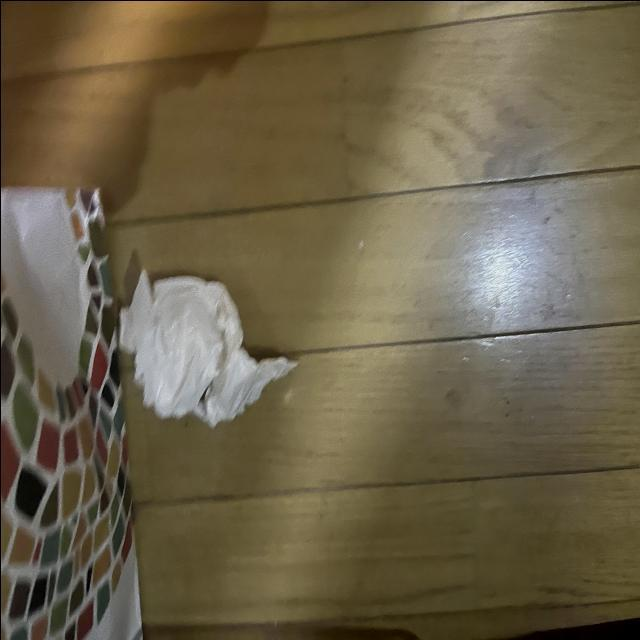Paper: (112, 266, 312, 442)
